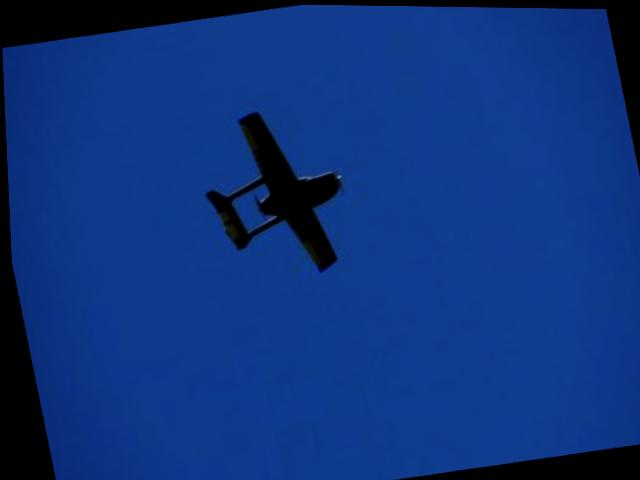uav: (186, 94, 355, 288)
